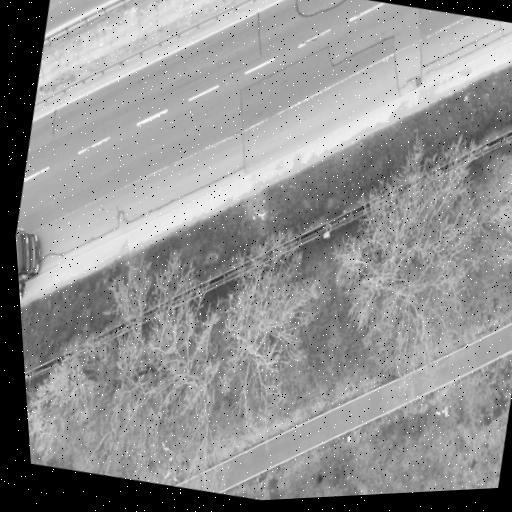person: (19, 283, 24, 301)
